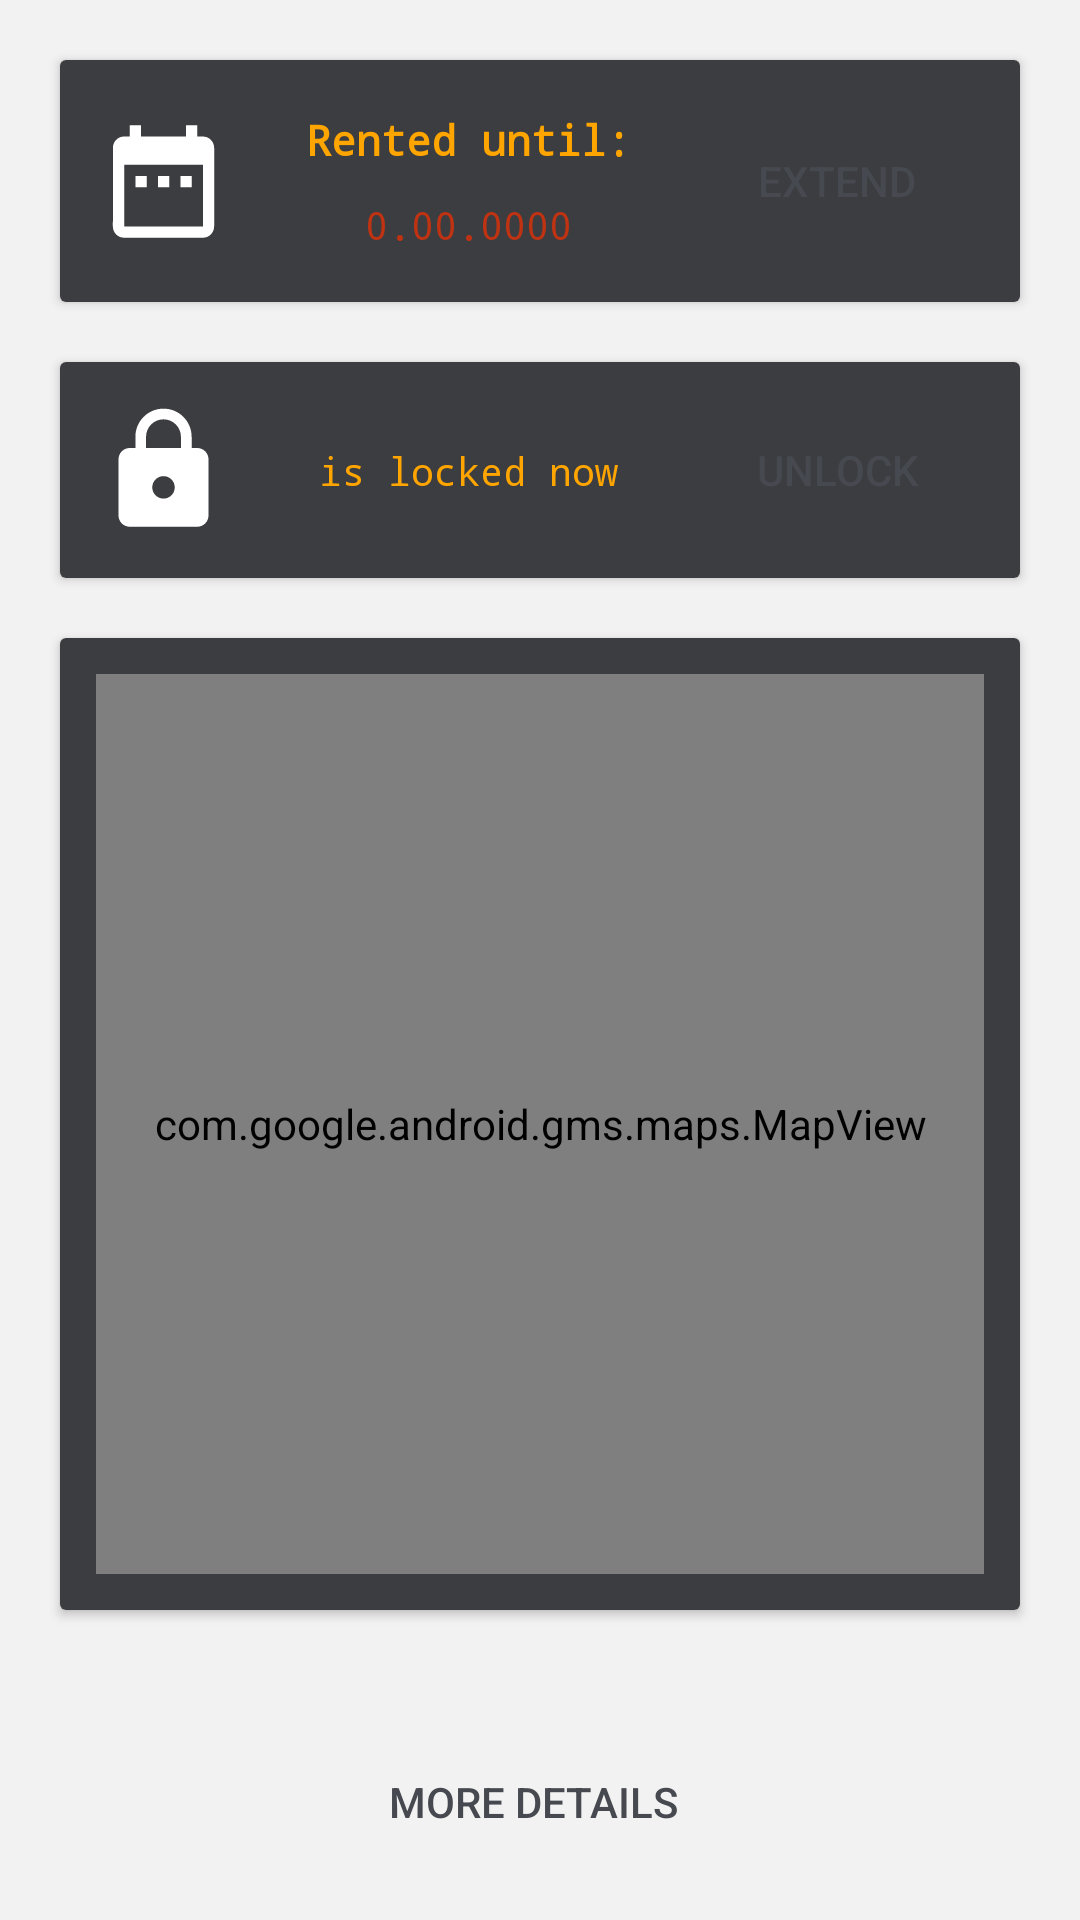

Icons on this 1080 x 1920 Android screen, each with the point to tap as (x=x, y=y):
date range lightgray: (x=163, y=181)
lock lightgray: (x=163, y=467)
